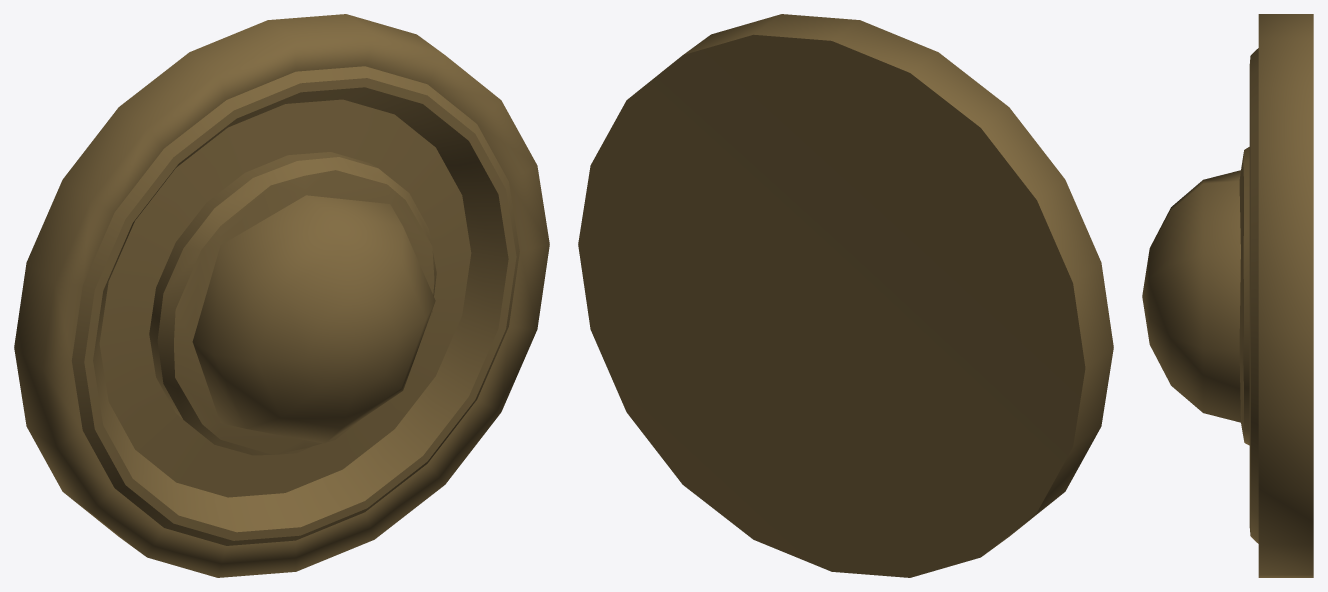
The model's file is Small_Cylinder_Support_Obstacle_Mesh_01.fbx.
The picture shows the model from 3 angles, left to right: view 1: azimuth 30°, elevation 25°; view 2: azimuth 150°, elevation 25°; view 3: azimuth 270°, elevation 25°; orthographic projection. The views are drawn at different scales.
Visible parts, largest first — view 1: Small_Cylinder_Obstacle_Support; view 2: Small_Cylinder_Obstacle_Support; view 3: Small_Cylinder_Obstacle_Support.
Boxes of the visible parts, x1=… form: Small_Cylinder_Obstacle_Support: x1=14, y1=14, x2=549, y2=577; Small_Cylinder_Obstacle_Support: x1=578, y1=14, x2=1113, y2=577; Small_Cylinder_Obstacle_Support: x1=1142, y1=14, x2=1313, y2=577.
Size of the model in its own units: 15.1 by 15.1 by 4.56.
